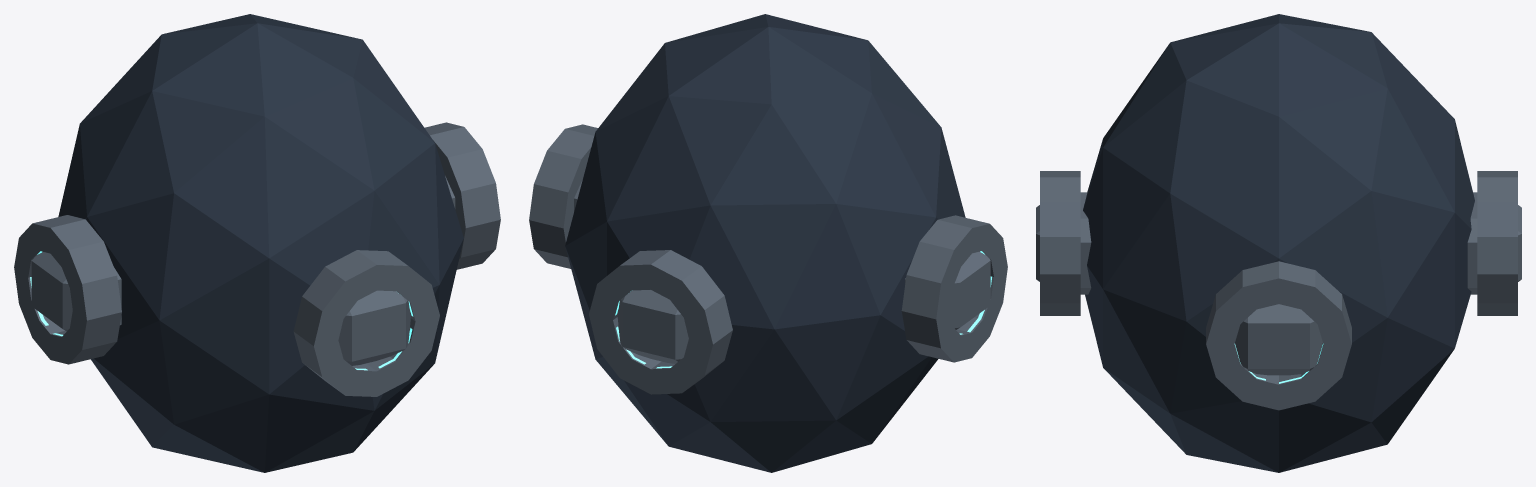
File: protocol_adapter.glb
The picture shows the model from 3 angles, left to right: view 1: azimuth 30°, elevation 25°; view 2: azimuth 150°, elevation 25°; view 3: azimuth 270°, elevation 25°; orthographic projection.
Visible parts, largest first — view 1: protocol_adapter__adapter_core, protocol_adapter__port_posZ_frame, protocol_adapter__port_negX_frame, protocol_adapter__port_posX_frame, protocol_adapter__port_neck__03, protocol_adapter__port_neck__02; view 2: protocol_adapter__adapter_core, protocol_adapter__port_negZ_frame, protocol_adapter__port_negX_frame, protocol_adapter__port_posX_frame, protocol_adapter__port_neck__04, protocol_adapter__port_neck__02; view 3: protocol_adapter__adapter_core, protocol_adapter__port_posX_frame, protocol_adapter__port_negZ_frame, protocol_adapter__port_posZ_frame, protocol_adapter__port_neck, protocol_adapter__port_neck__03, protocol_adapter__port_neck__04.
Boxes of the visible parts, x1=… form: protocol_adapter__adapter_core: x1=58, y1=14, x2=463, y2=472; protocol_adapter__port_posZ_frame: x1=293, y1=250, x2=439, y2=396; protocol_adapter__port_negX_frame: x1=14, y1=215, x2=121, y2=364; protocol_adapter__port_posX_frame: x1=424, y1=122, x2=500, y2=269; protocol_adapter__port_neck__03: x1=338, y1=290, x2=410, y2=365; protocol_adapter__port_neck__02: x1=31, y1=252, x2=121, y2=331; protocol_adapter__adapter_core: x1=565, y1=14, x2=965, y2=472; protocol_adapter__port_negZ_frame: x1=589, y1=250, x2=732, y2=394; protocol_adapter__port_negX_frame: x1=901, y1=215, x2=1007, y2=362; protocol_adapter__port_posX_frame: x1=529, y1=124, x2=597, y2=268; protocol_adapter__port_neck__04: x1=617, y1=290, x2=688, y2=363; protocol_adapter__port_neck__02: x1=905, y1=251, x2=990, y2=329; protocol_adapter__adapter_core: x1=1083, y1=14, x2=1474, y2=472; protocol_adapter__port_posX_frame: x1=1206, y1=261, x2=1351, y2=410; protocol_adapter__port_negZ_frame: x1=1477, y1=171, x2=1517, y2=315; protocol_adapter__port_posZ_frame: x1=1040, y1=171, x2=1080, y2=315; protocol_adapter__port_neck: x1=1235, y1=304, x2=1322, y2=375; protocol_adapter__port_neck__03: x1=1036, y1=192, x2=1091, y2=294; protocol_adapter__port_neck__04: x1=1467, y1=192, x2=1521, y2=294.
Bounding box in the file's own units: 1.2 × 1.2 × 1.2.
